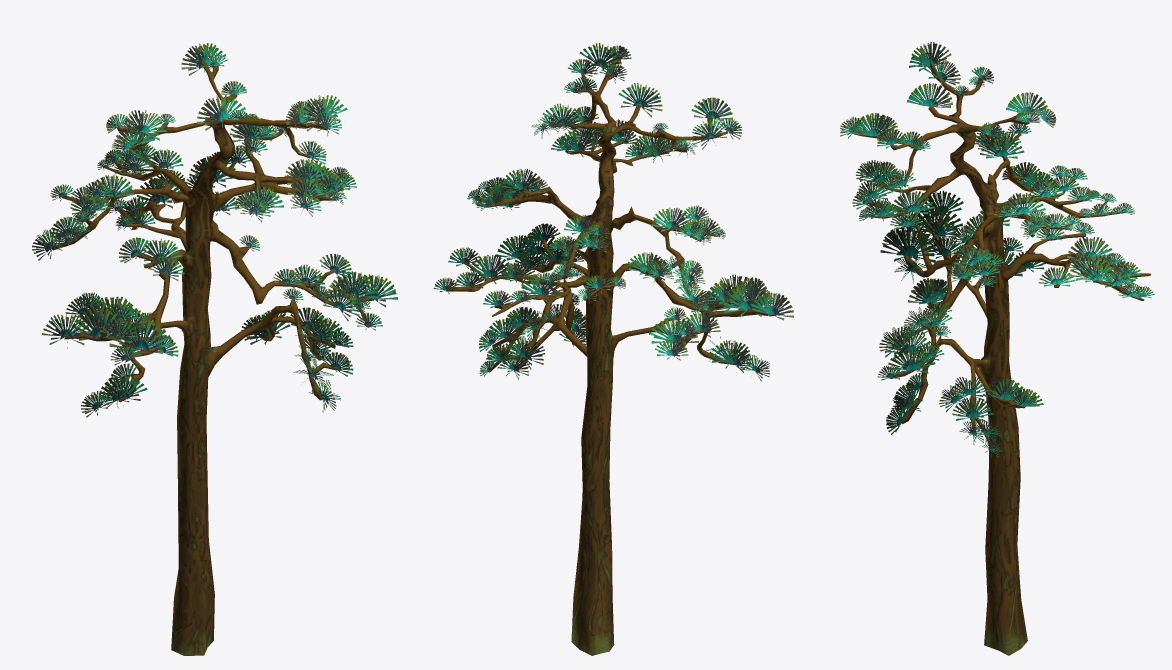
File: songshu2.fbx
3 views of the same model, side by side, from view 1: azimuth 30°, elevation 25°; view 2: azimuth 150°, elevation 25°; view 3: azimuth 270°, elevation 25° (orthographic). The views are drawn at different scales.
Parts seen in each view (by area): view 1: 平面.001, shongshu_2_low; view 2: 平面.001, shongshu_2_low; view 3: 平面.001, shongshu_2_low.
Boxes of the visible parts, <box> form: 平面.001: <box>32,43,397,417</box>; shongshu_2_low: <box>51,61,373,655</box>; 平面.001: <box>433,43,793,381</box>; shongshu_2_low: <box>446,59,773,655</box>; 平面.001: <box>840,42,1154,457</box>; shongshu_2_low: <box>853,61,1150,655</box>.
Size of the model in its own units: 61.92 by 106 by 53.76.
